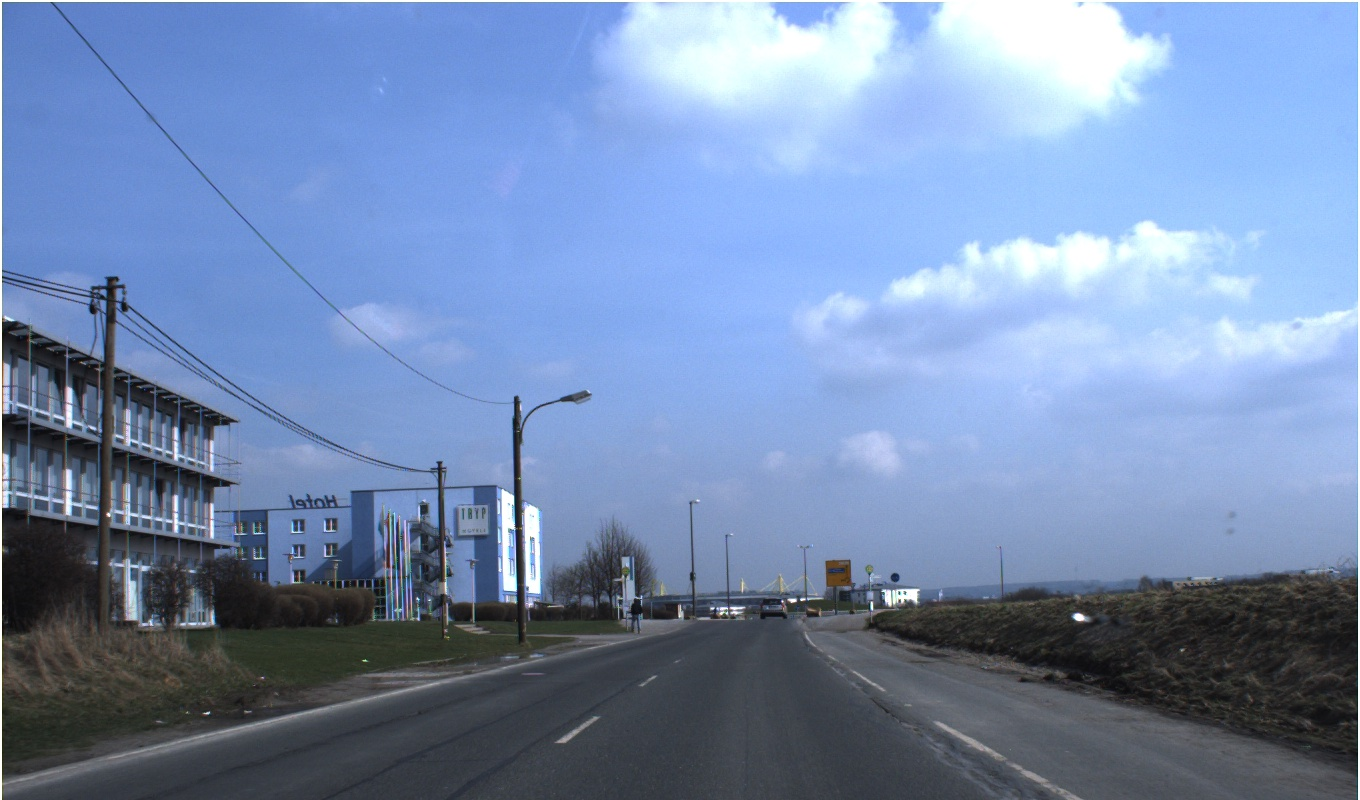car: (761, 591, 789, 620)
pedestrian: (627, 596, 651, 646), (713, 603, 721, 623)
